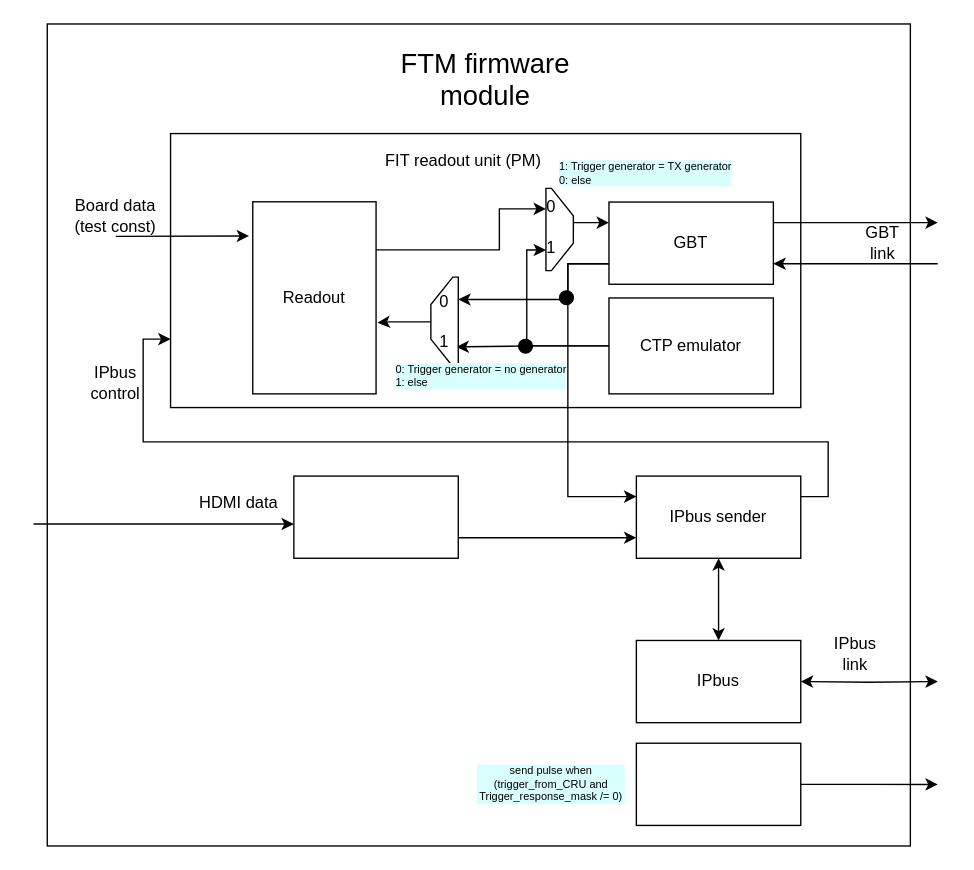
Image size: 974x870. Some labels were removed from this diagram. The centre of each missing label's shape, as x and y in pixels:
"HDMI sync" goes at (x=375, y=516).
"Laser pulser" goes at (x=718, y=783).
